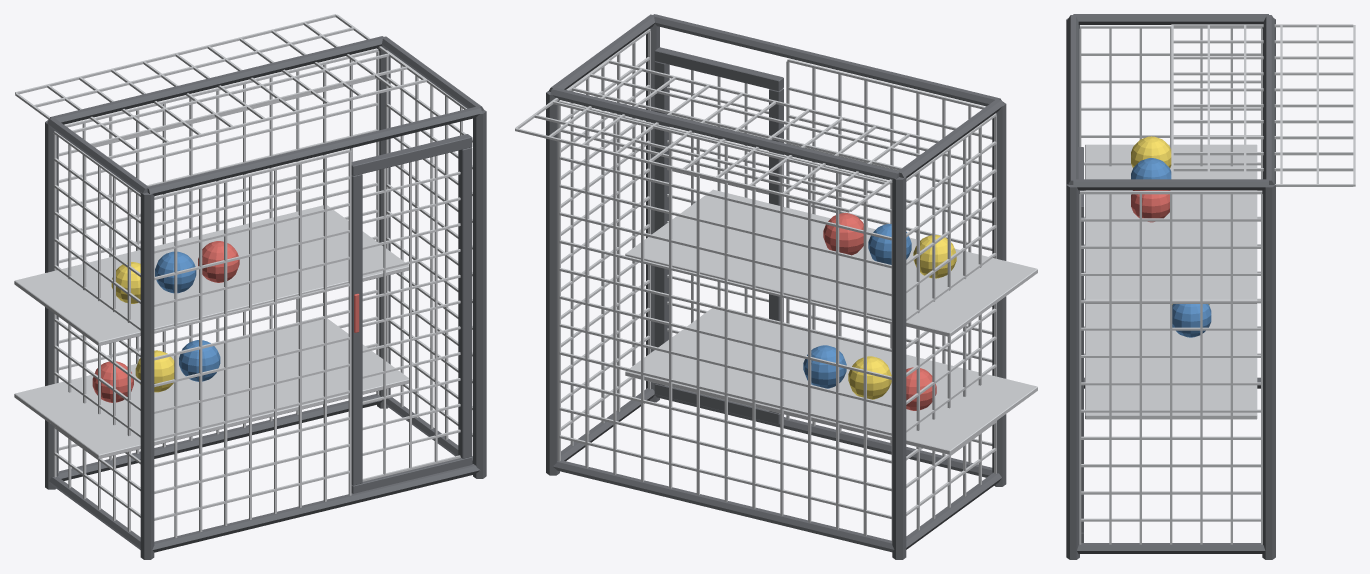
The model's file is community-sports-hall-and-changing-rooms-equipment-sto-0524f6e5__35122.glb.
The picture shows the model from 3 angles, left to right: view 1: azimuth 30°, elevation 25°; view 2: azimuth 150°, elevation 25°; view 3: azimuth 270°, elevation 25°; orthographic projection. The views are drawn at different scales.
Visible parts, largest first — view 1: equipment-store-cage, cage-door/frame, cage-door/metal; view 2: equipment-store-cage, cage-door/frame, cage-door/metal; view 3: equipment-store-cage, cage-door/frame.
Part boxes in pixels (left/top/right/bottom): equipment-store-cage: left=14, top=14, right=486, bottom=559; cage-door/frame: left=351, top=134, right=472, bottom=493; cage-door/metal: left=362, top=155, right=460, bottom=481; equipment-store-cage: left=515, top=14, right=1037, bottom=559; cage-door/frame: left=654, top=47, right=783, bottom=424; cage-door/metal: left=667, top=70, right=768, bottom=333; equipment-store-cage: left=1066, top=14, right=1355, bottom=559; cage-door/frame: left=1078, top=147, right=1083, bottom=542.
Bounding box in the file's own units: 2.29 × 2.12 × 1.48.
